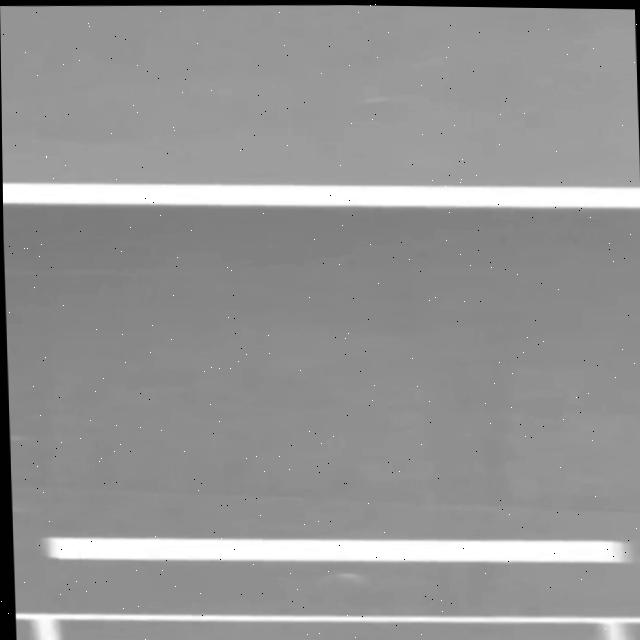center: (43, 536, 629, 562)
left: (3, 182, 640, 207)
